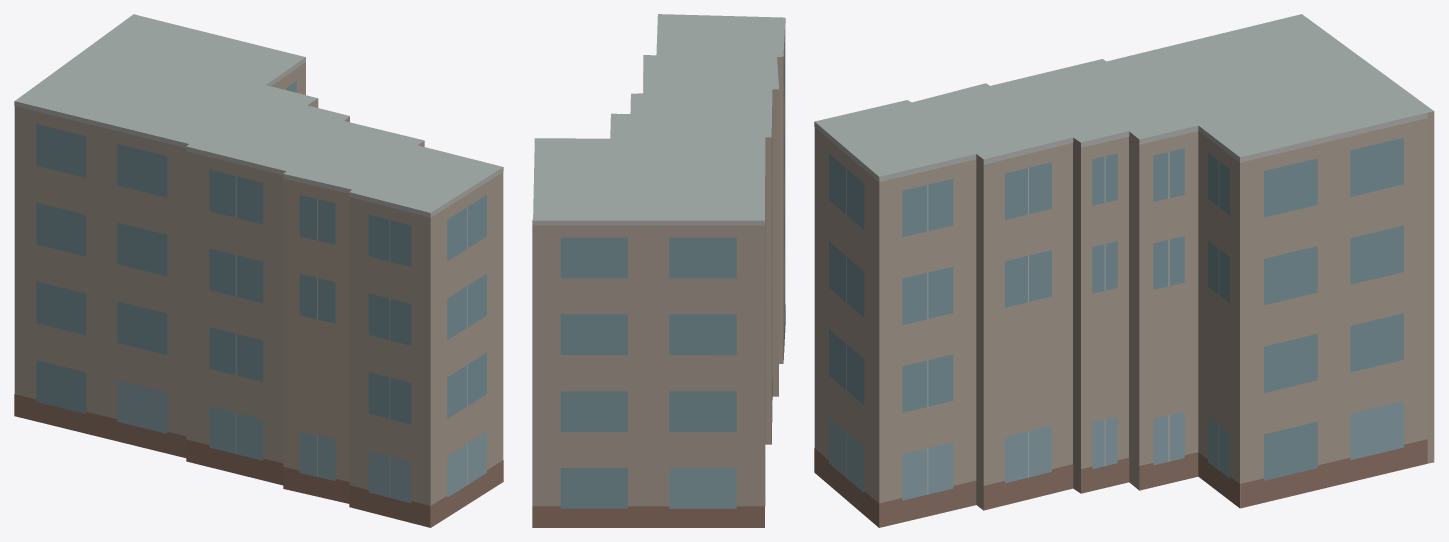
File: survey-upis-32773677.glb
3 renders of one model, left to right at view 1: azimuth 30°, elevation 25°; view 2: azimuth 150°, elevation 25°; view 3: azimuth 270°, elevation 25°, orthographic. The views are drawn at different scales.
Parts seen in each view (by area): view 1: survey-upis-32773677.tmp; view 2: survey-upis-32773677.tmp; view 3: survey-upis-32773677.tmp.
Part boxes in pixels (x1=…): survey-upis-32773677.tmp: x1=14, y1=14, x2=503, y2=527; survey-upis-32773677.tmp: x1=532, y1=14, x2=785, y2=527; survey-upis-32773677.tmp: x1=814, y1=14, x2=1434, y2=527.
Size of the model in its own units: 15.82 by 15.9 by 25.46.
